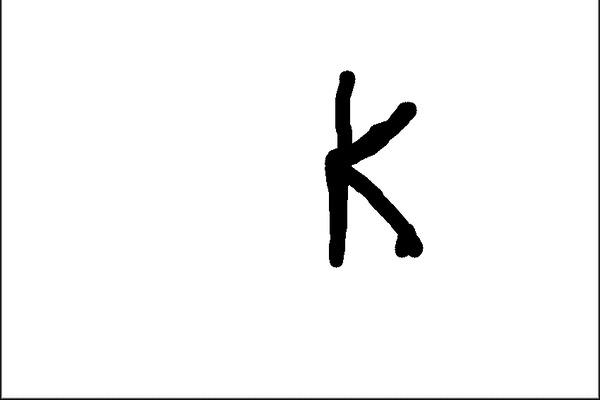K: (312, 63, 435, 274)
